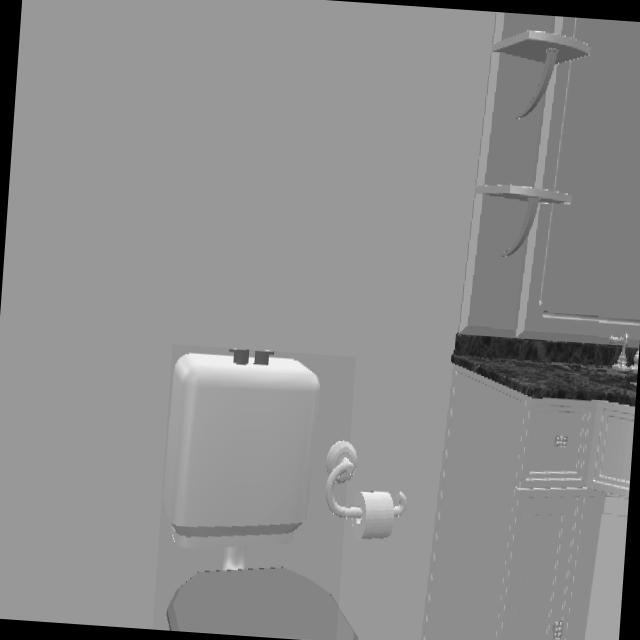toilet: (161, 349, 338, 640)
